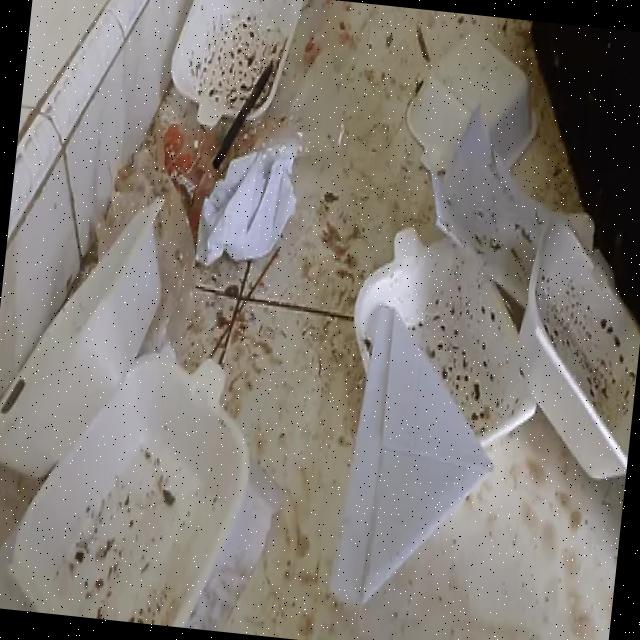styrofoam: (345, 38, 640, 550), (0, 182, 275, 632), (148, 0, 299, 137)
